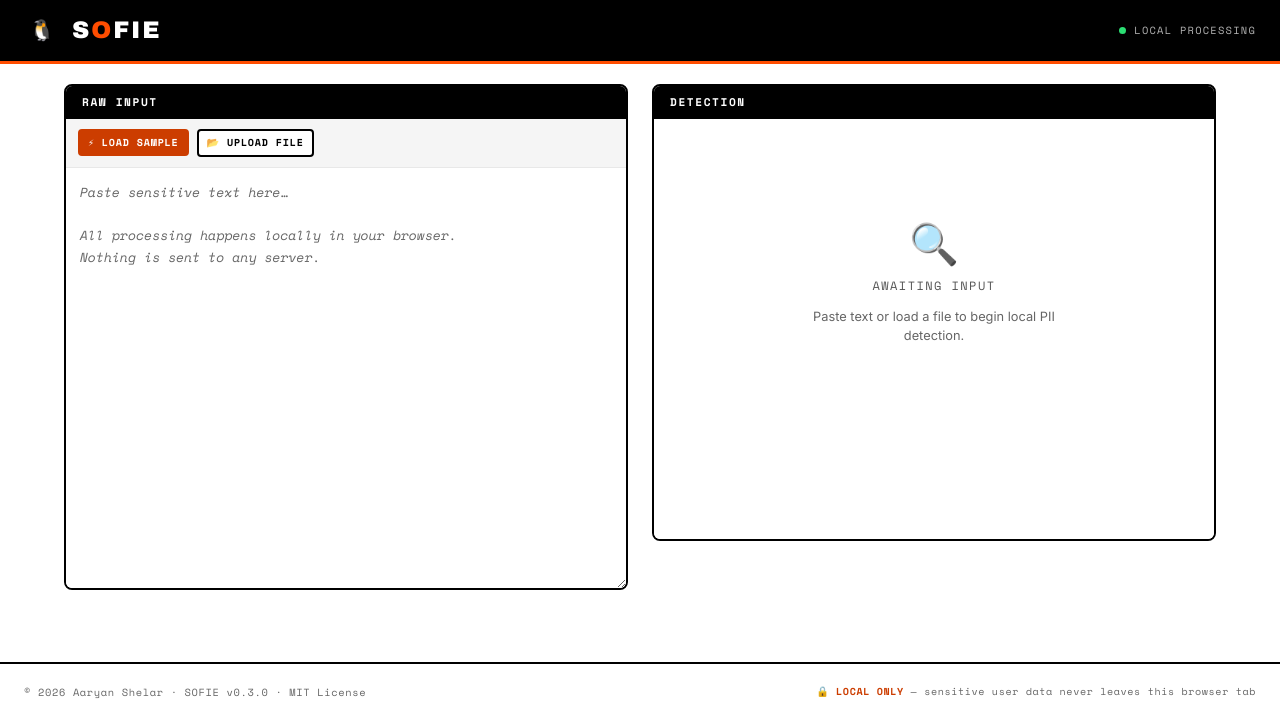
Test: SOFIE Phase 2 UI › 23. Invalidates detected ranges immediately when the document changes
Later steps or results of the test are not shown.
(page scrolled)
Replace the text in the text box with test id "text-input" with "Old: old@example.com" at (346, 378), box [66, 168, 626, 588]
Wait 300 ms
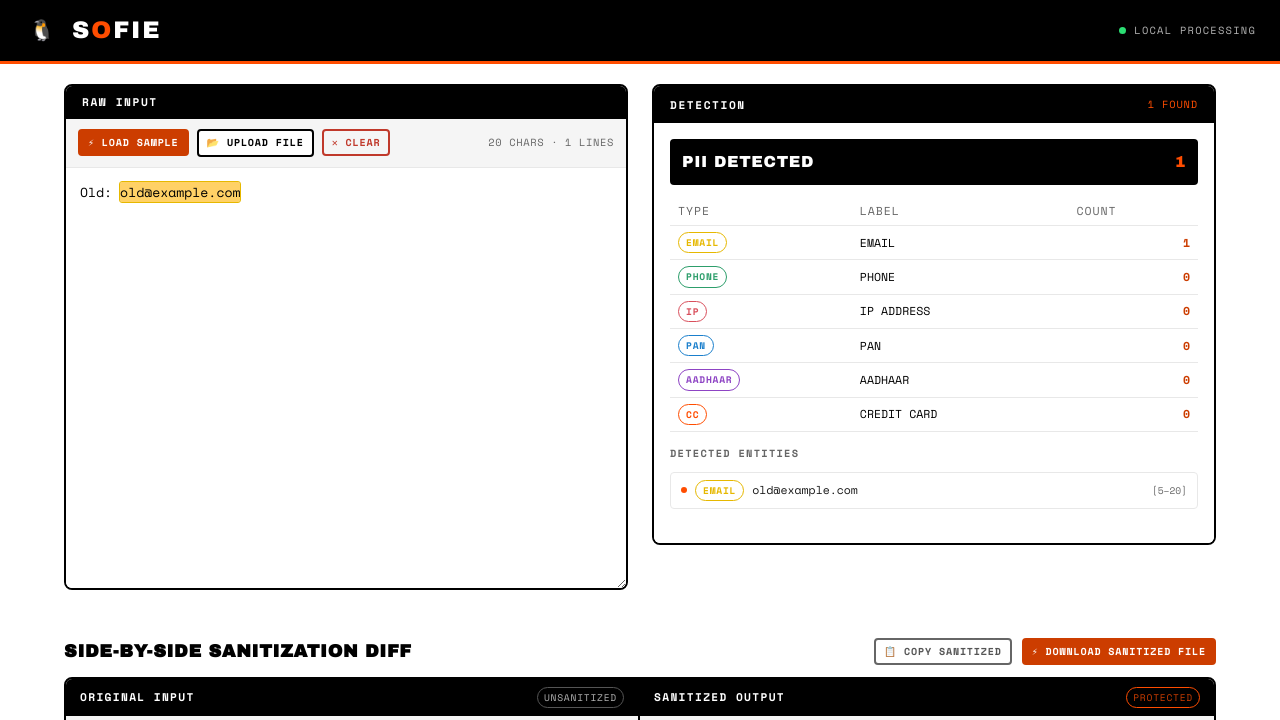
Result: the button with test id "download-btn" is enabled at [1022, 638, 1216, 665]
Replace the text in the text box with test id "text-input" with "New: 9876543210" at (346, 378), box [66, 168, 626, 588]
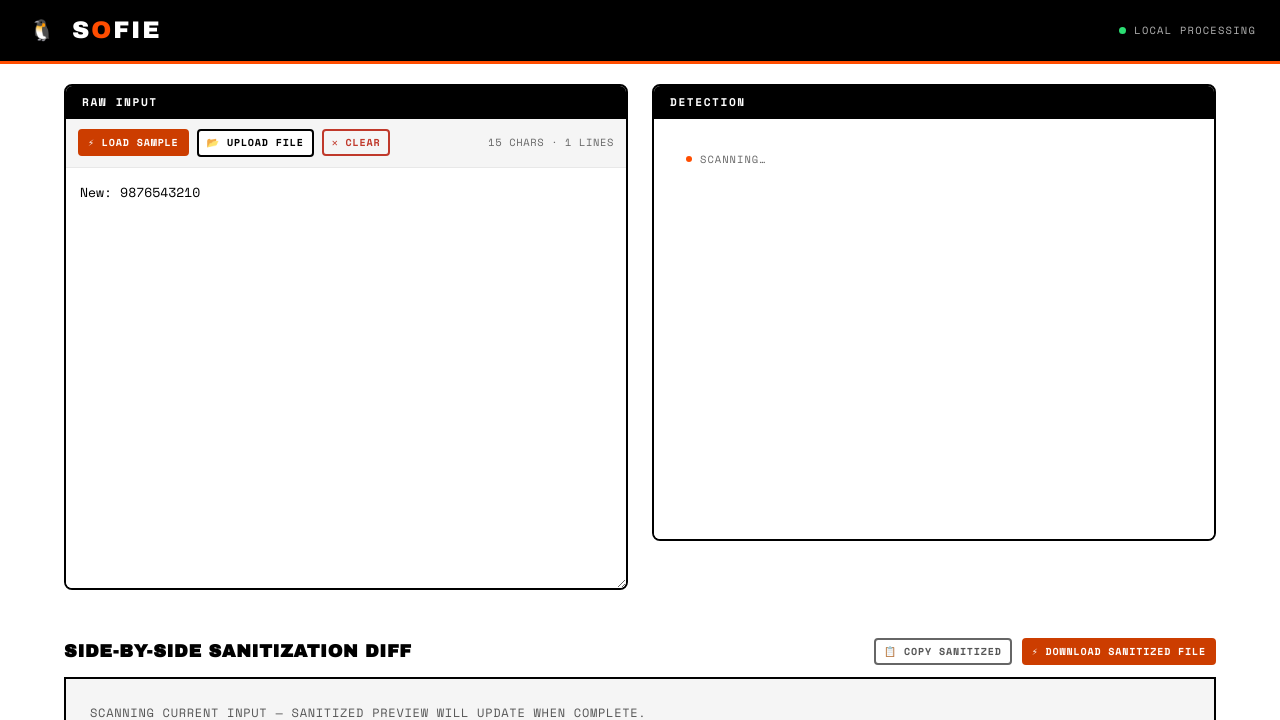
Expected: the button with test id "download-btn" is disabled, [1022, 638, 1216, 665]
Result: no list items with test id "entity-item" are shown
Result: the text "SCANNING…" is shown at [686, 151, 767, 167]
